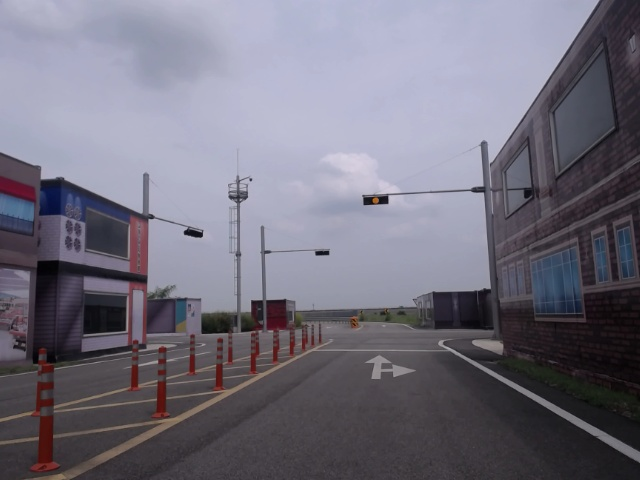orange_3: (363, 195, 389, 205)
